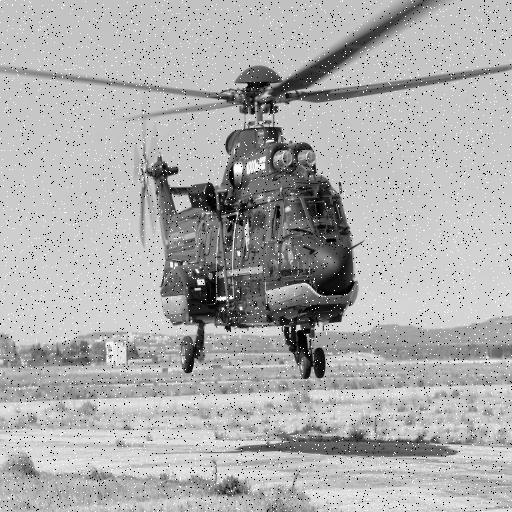helicopter: (1, 1, 512, 388)
